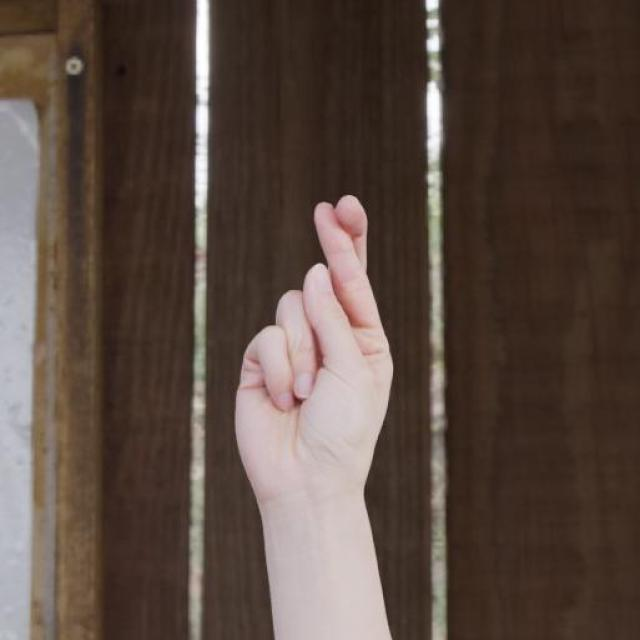R: (200, 161, 435, 640)
